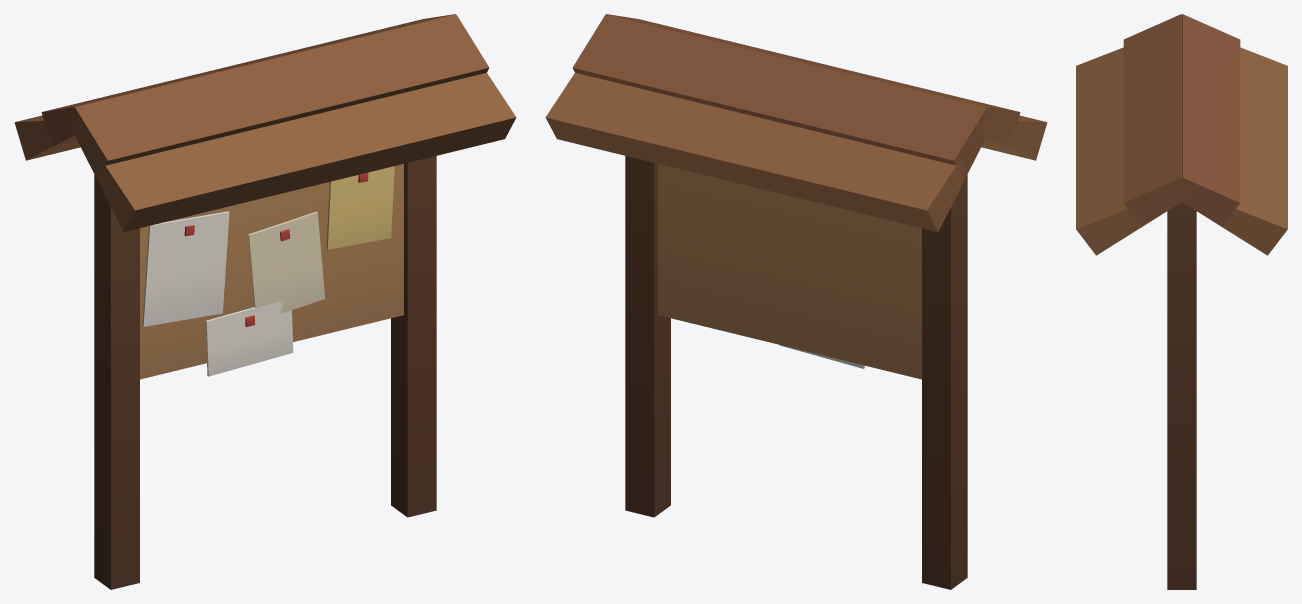
Rendered from notice_board.glb.
3 views of the same model, side by side, from view 1: azimuth 30°, elevation 25°; view 2: azimuth 150°, elevation 25°; view 3: azimuth 270°, elevation 25° (orthographic). The views are drawn at different scales.
Parts seen in each view (by area): view 1: notice_board; view 2: notice_board; view 3: notice_board.
Part boxes in pixels (bbox=[...]): notice_board: bbox=[14, 14, 516, 589]; notice_board: bbox=[545, 14, 1047, 589]; notice_board: bbox=[1076, 14, 1287, 589].
Size of the model in its own units: 7.2 by 8.72 by 3.94.
Materials: 1 (1 with a texture image).
